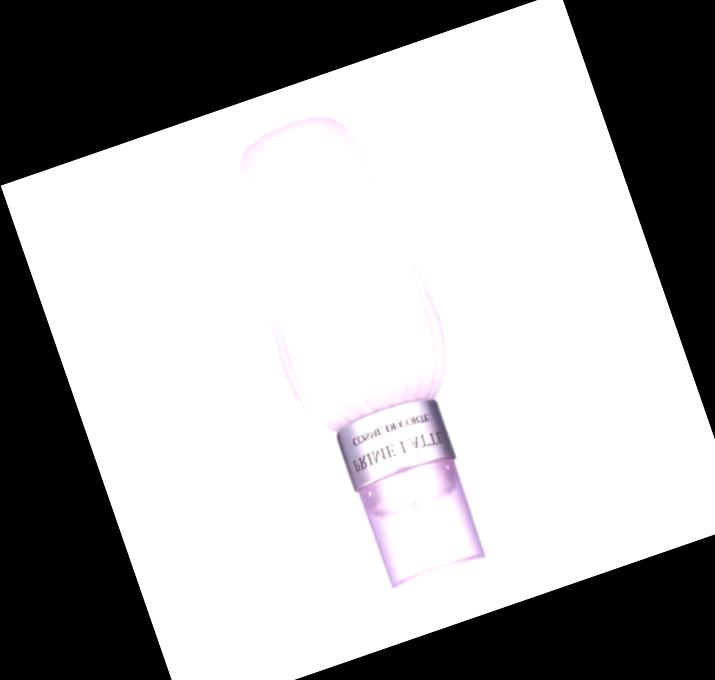cosmetic: (217, 95, 516, 601)
